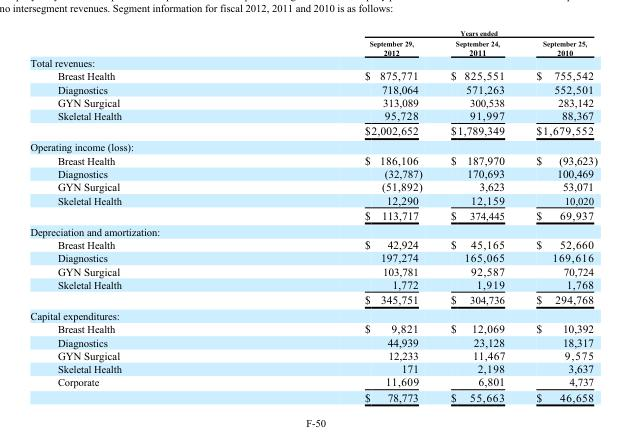table: (29, 28, 596, 403)
table column: (29, 28, 242, 403), (242, 28, 435, 403), (435, 28, 519, 403), (519, 28, 596, 403)
table column header: (29, 28, 596, 56)
table projected row header: (29, 138, 596, 153), (29, 223, 596, 237), (29, 307, 596, 321), (29, 56, 596, 68)
table row: (29, 37, 596, 56), (29, 122, 596, 138), (29, 207, 596, 223), (29, 291, 596, 307), (29, 138, 596, 153), (29, 374, 596, 389), (29, 68, 596, 82), (29, 108, 596, 122), (29, 179, 596, 193), (29, 193, 596, 207), (29, 223, 596, 237), (29, 250, 596, 264), (29, 277, 596, 291), (29, 307, 596, 321), (29, 321, 596, 335), (29, 389, 596, 403), (29, 82, 596, 95), (29, 95, 596, 108), (29, 153, 596, 166), (29, 166, 596, 179), (29, 237, 596, 250), (29, 264, 596, 277), (29, 335, 596, 348), (29, 348, 596, 361), (29, 361, 596, 374), (29, 56, 596, 68), (29, 28, 596, 37)
table spanning cell: (242, 28, 596, 37)
